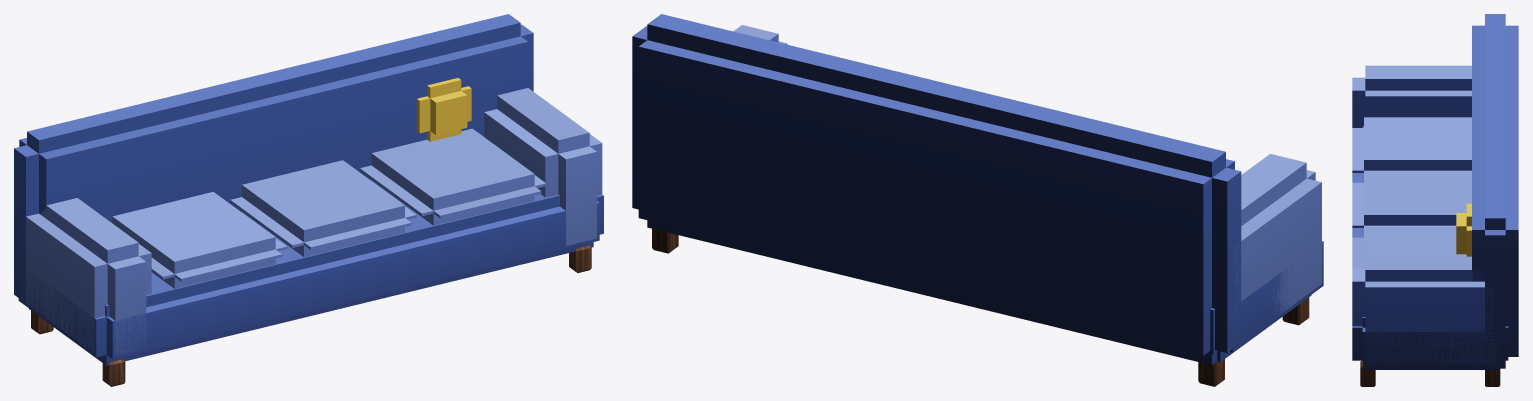
Rendered from sofa.glb.
3 renders of one model, left to right at view 1: azimuth 30°, elevation 25°; view 2: azimuth 150°, elevation 25°; view 3: azimuth 270°, elevation 25°, orthographic. The views are drawn at different scales.
Parts seen in each view (by area): view 1: sofa; view 2: sofa; view 3: sofa.
Part boxes in pixels (x1=…): sofa: x1=14, y1=14, x2=603, y2=386; sofa: x1=632, y1=14, x2=1323, y2=386; sofa: x1=1352, y1=14, x2=1518, y2=386.
Bounding box in the file's own units: 1.96 × 0.722 × 0.64.
Materials: 4 (4 with a texture image).
